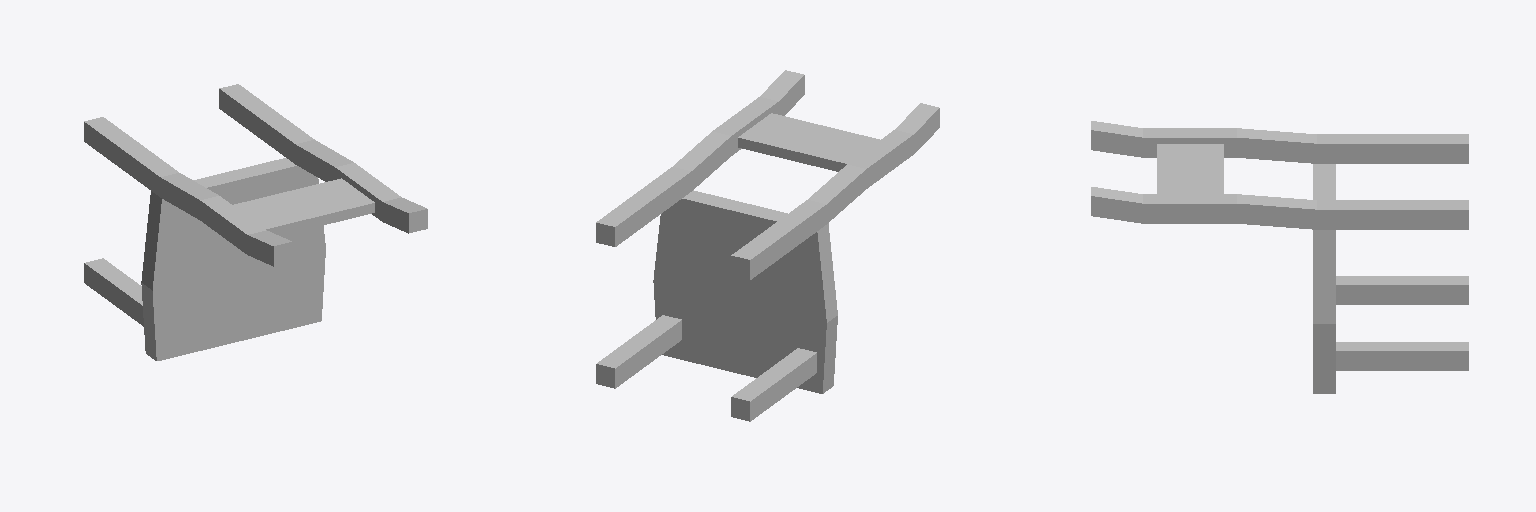
The model's file is chair.obj.
The picture shows the model from 3 angles: view 1: azimuth 30°, elevation 25°; view 2: azimuth 150°, elevation 25°; view 3: azimuth 270°, elevation 25°; orthographic projection.
Parts seen in each view (by area): view 1: Box02; view 2: Box02; view 3: Box02.
Boxes of the visible parts, x1,y1,x2,y2 form: Box02: [84, 84, 427, 360]; Box02: [596, 70, 939, 421]; Box02: [1091, 121, 1468, 393].
Size of the model in its own units: 24.96 by 26.87 by 47.18.